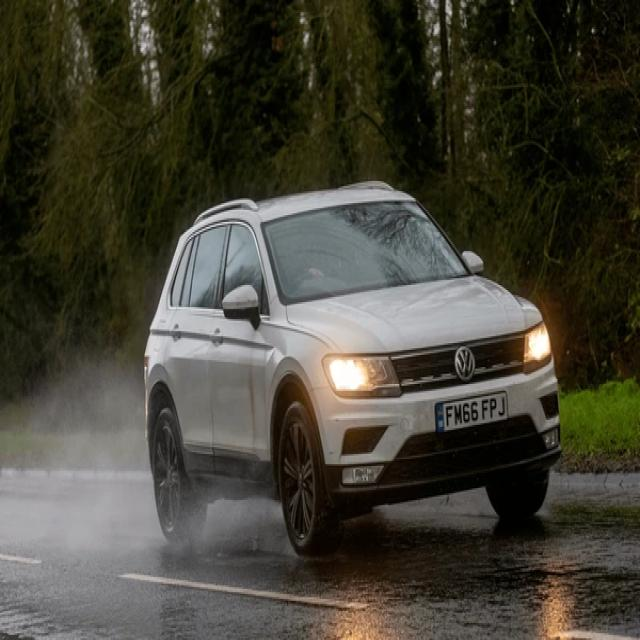wolksvogen: (456, 346, 474, 382)
